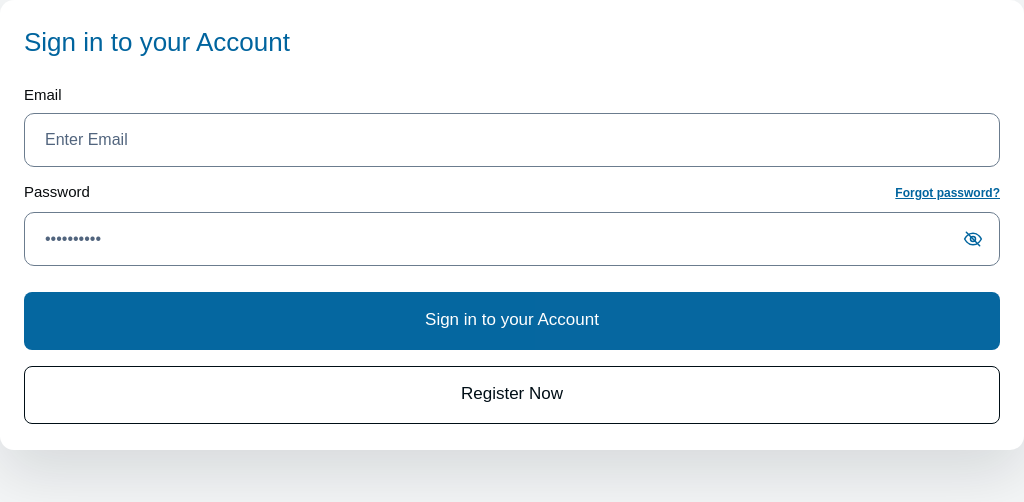
HomeSignIn component › toggles password visibility without submitting the form
Type "keep-this-value" into the password field labelled "Password" at (512, 239), box [24,212,1000,266]
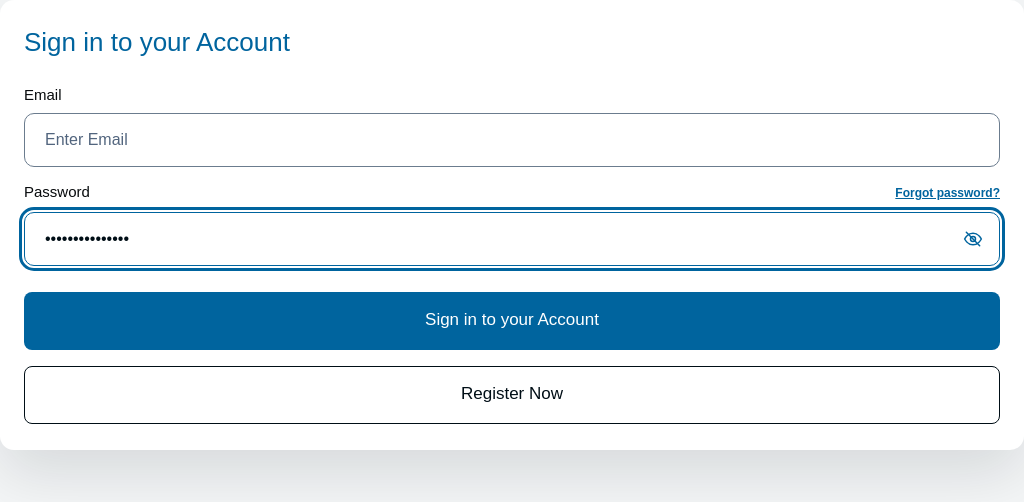
Click the button named "Show password" at (973, 239), box [954,220,992,258]
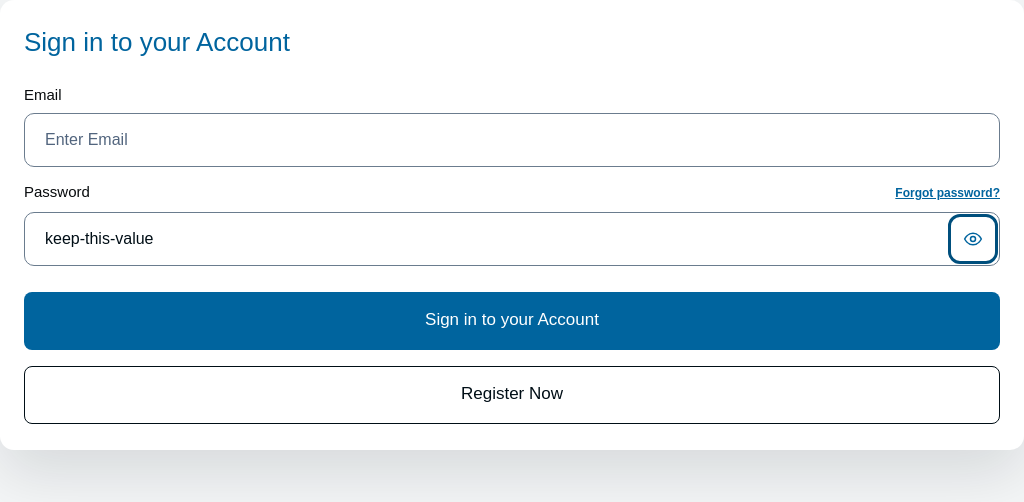
Expected: the field labelled "Password" shows its text, [24,212,1000,266]
Click the button named "Hide password" at (973, 239), box [954,220,992,258]
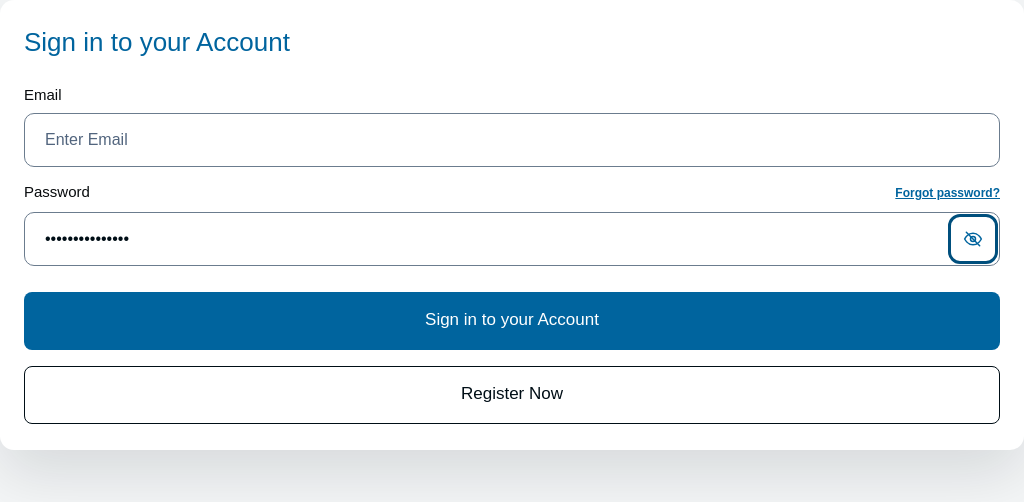
Expected: the password field labelled "Password" hides its text, [24,212,1000,266]
